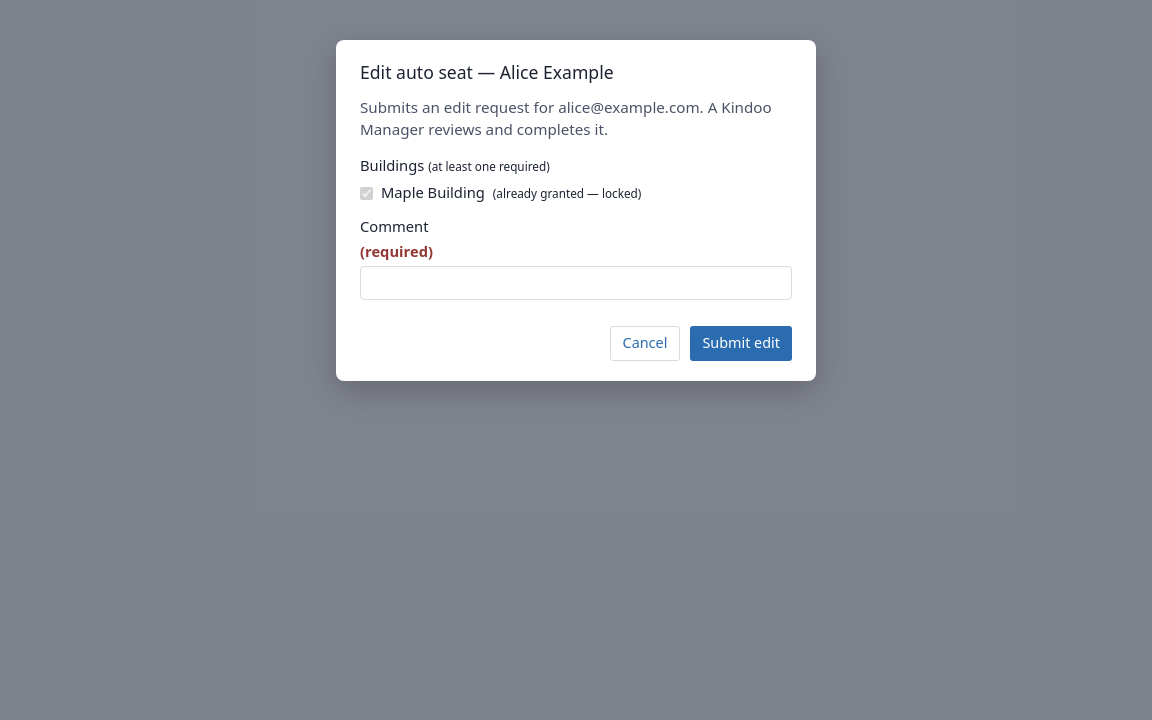
Test: <EditSeatDialog /> — edit_auto sub-type › blocks submit with an inline error when comment is empty
Step 1. Click the button with test id "edit-seat-confirm" → (741, 344), box [690, 326, 792, 361]
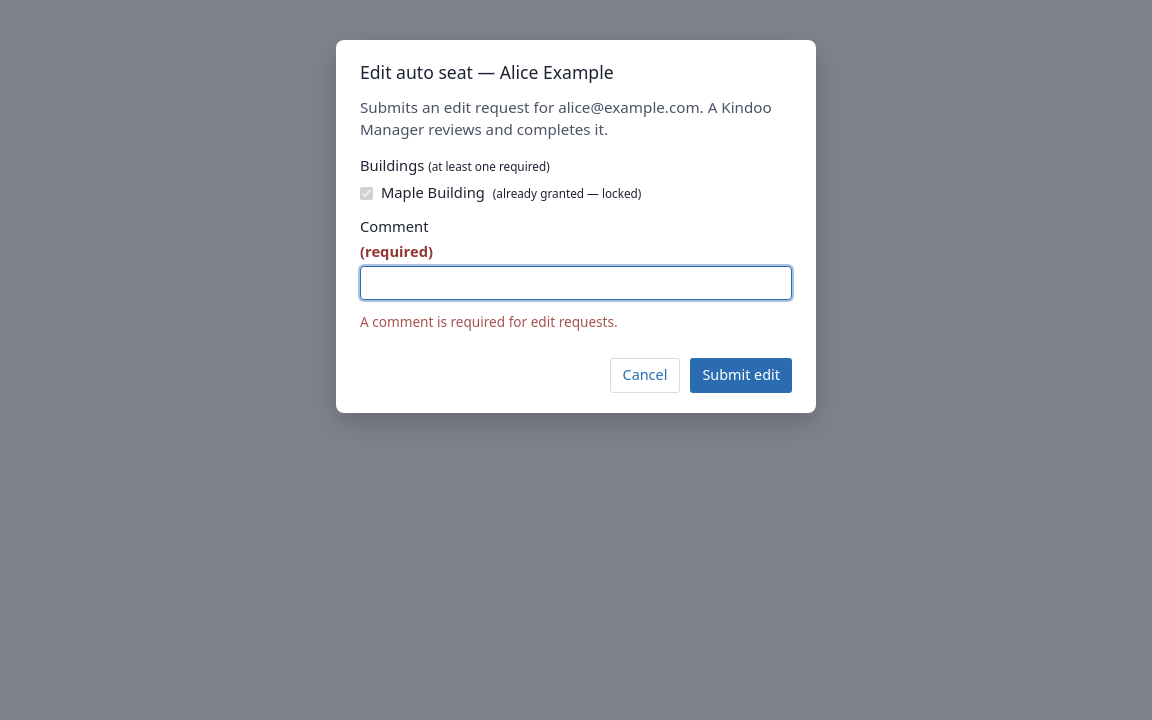
Expected: the message "A comment is required for edit requests." is shown, [360, 312, 618, 331]
